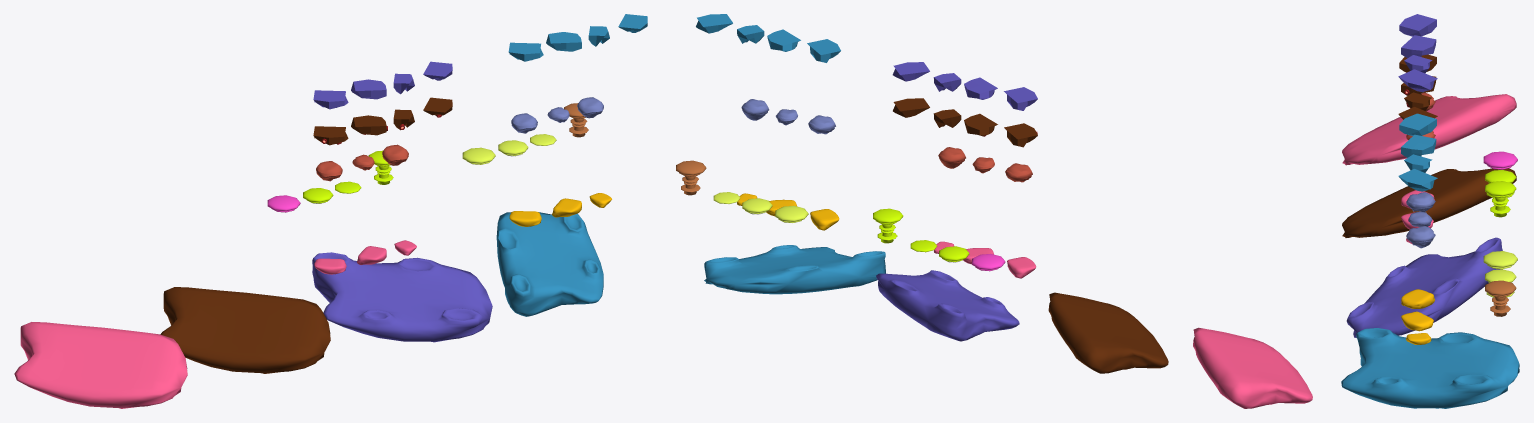
File: platforms.fbx
3 renders of one model, left to right at view 1: azimuth 30°, elevation 25°; view 2: azimuth 150°, elevation 25°; view 3: azimuth 270°, elevation 25°, orthographic. The views are drawn at different scales.
Visible parts, largest first — view 1: platform.002, platform.004, platform.001, platform.003, platform.011, platform.007, platform.041; view 2: platform.003, platform.001, platform.004, platform.002, platform.025, platform.051; view 3: platform.003, platform.002, platform.004, platform.001, platform.025, platform.051, platform.005, platform.039, platform.007, platform.041, platform.008, platform.042 (+15 smaller).
Part boxes in pixels (bbox=[...]): platform.002: bbox=[312, 252, 492, 342]; platform.004: bbox=[14, 322, 187, 408]; platform.001: bbox=[160, 287, 330, 373]; platform.003: bbox=[496, 212, 603, 316]; platform.011: bbox=[351, 115, 386, 135]; platform.007: bbox=[351, 79, 386, 99]; platform.041: bbox=[546, 32, 581, 51]; platform.003: bbox=[704, 245, 885, 294]; platform.001: bbox=[1048, 292, 1168, 373]; platform.004: bbox=[1193, 327, 1312, 408]; platform.002: bbox=[876, 270, 1019, 341]; platform.025: bbox=[873, 208, 903, 243]; platform.051: bbox=[676, 160, 706, 195]; platform.003: bbox=[1341, 328, 1519, 408]; platform.002: bbox=[1346, 237, 1502, 337]; platform.004: bbox=[1342, 94, 1516, 165]; platform.001: bbox=[1342, 168, 1516, 237]; platform.025: bbox=[1485, 181, 1516, 217]; platform.051: bbox=[1485, 280, 1516, 316]; platform.005: bbox=[1399, 14, 1436, 36]; platform.039: bbox=[1399, 113, 1436, 135]; platform.007: bbox=[1401, 35, 1436, 58]; platform.041: bbox=[1401, 134, 1436, 157]; platform.008: bbox=[1398, 69, 1437, 92]; platform.042: bbox=[1398, 169, 1437, 191].
Bounding box in the file's own units: 3557 × 14906 × 5674.
